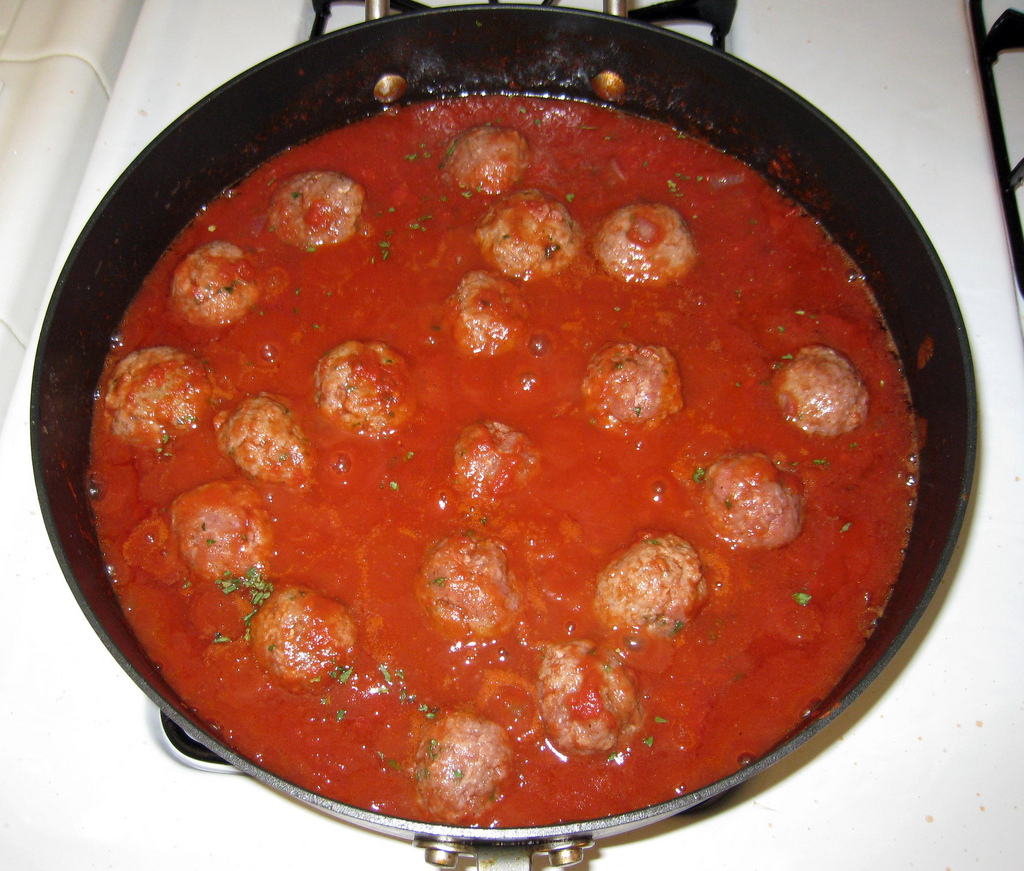meatballs: (612, 528, 737, 649), (172, 480, 301, 586), (538, 636, 651, 744), (706, 447, 812, 553), (416, 531, 521, 635), (446, 428, 546, 534), (114, 337, 216, 439), (251, 597, 362, 689), (772, 347, 871, 439), (230, 390, 320, 491), (413, 715, 522, 798), (313, 340, 408, 434), (597, 207, 697, 295), (264, 172, 375, 251), (585, 336, 679, 424), (445, 124, 533, 211), (489, 193, 584, 272), (450, 276, 531, 356), (177, 249, 259, 326)
